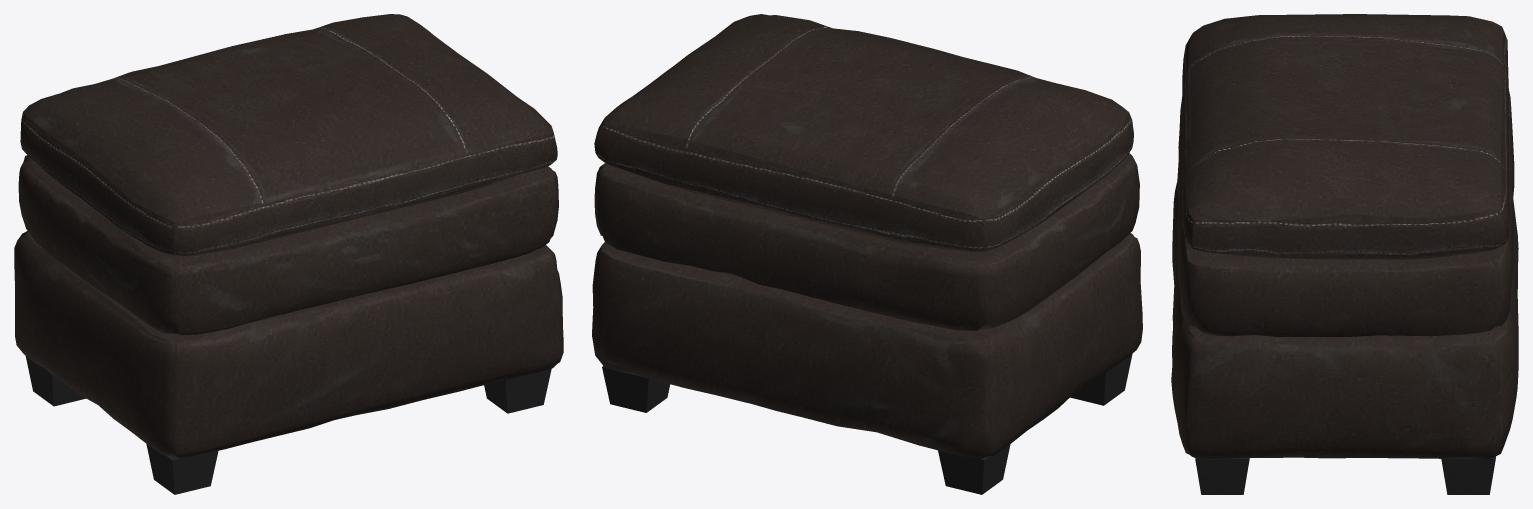
File: Ottoman_01.glb
The picture shows the model from 3 angles, left to right: view 1: azimuth 30°, elevation 25°; view 2: azimuth 150°, elevation 25°; view 3: azimuth 270°, elevation 25°; orthographic projection.
Visible parts, largest first — view 1: Ottoman_01; view 2: Ottoman_01; view 3: Ottoman_01.
Boxes of the visible parts, <box> form: Ottoman_01: <box>14,14,563,494</box>; Ottoman_01: <box>592,14,1142,494</box>; Ottoman_01: <box>1171,14,1518,494</box>.
Size of the model in its own units: 0.8842 by 0.6243 by 0.6211.
Materials: 1 (1 with a texture image).
